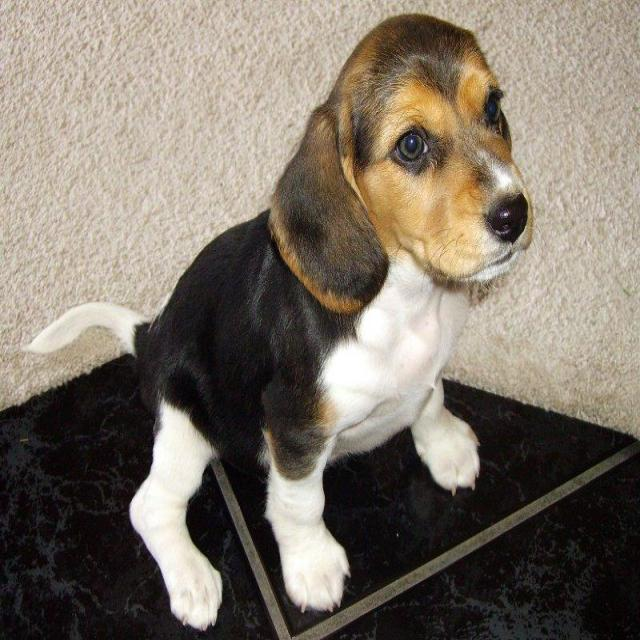beagle: (23, 6, 548, 638)
